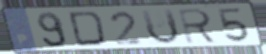2: (108, 10, 145, 47)
5: (215, 7, 251, 43)
9: (36, 10, 70, 49)
D: (66, 10, 108, 48)
R: (176, 7, 220, 45)
U: (139, 7, 182, 46)
